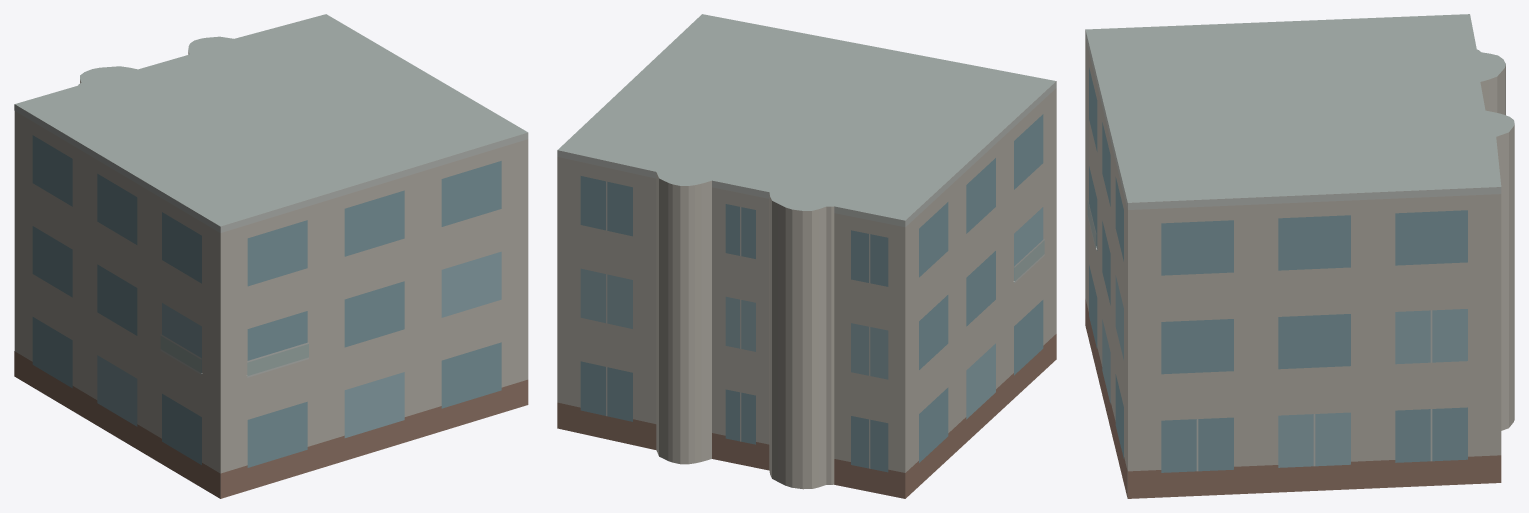
The model's file is survey-upis-32625713.glb.
3 renders of one model, left to right at view 1: azimuth 30°, elevation 25°; view 2: azimuth 150°, elevation 25°; view 3: azimuth 270°, elevation 25°, orthographic. The views are drawn at different scales.
Visible parts, largest first — view 1: survey-upis-32625713.tmp; view 2: survey-upis-32625713.tmp; view 3: survey-upis-32625713.tmp.
Part boxes in pixels (x1=…): survey-upis-32625713.tmp: x1=14, y1=14, x2=528, y2=498; survey-upis-32625713.tmp: x1=557, y1=14, x2=1056, y2=498; survey-upis-32625713.tmp: x1=1085, y1=14, x2=1514, y2=498.
Size of the model in its own units: 13.84 by 10.1 by 13.28.
